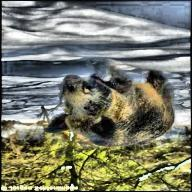boar: (44, 59, 187, 154)
